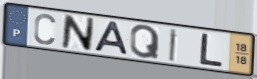A: (91, 20, 131, 57)
C: (32, 12, 58, 46)
I: (168, 27, 179, 63)
L: (198, 32, 225, 69)
N: (59, 13, 96, 53)
Q: (129, 24, 161, 61)
